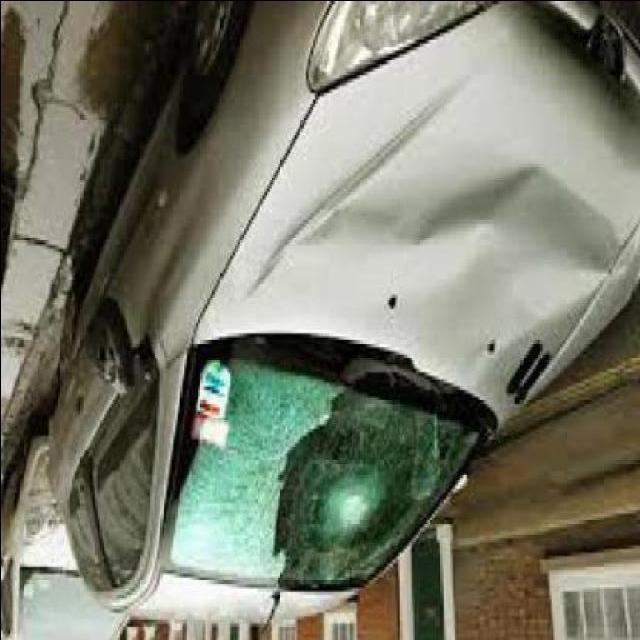Front-Windscreen-Damage: (189, 393, 453, 577)
bonnet-dent: (293, 130, 617, 357)
